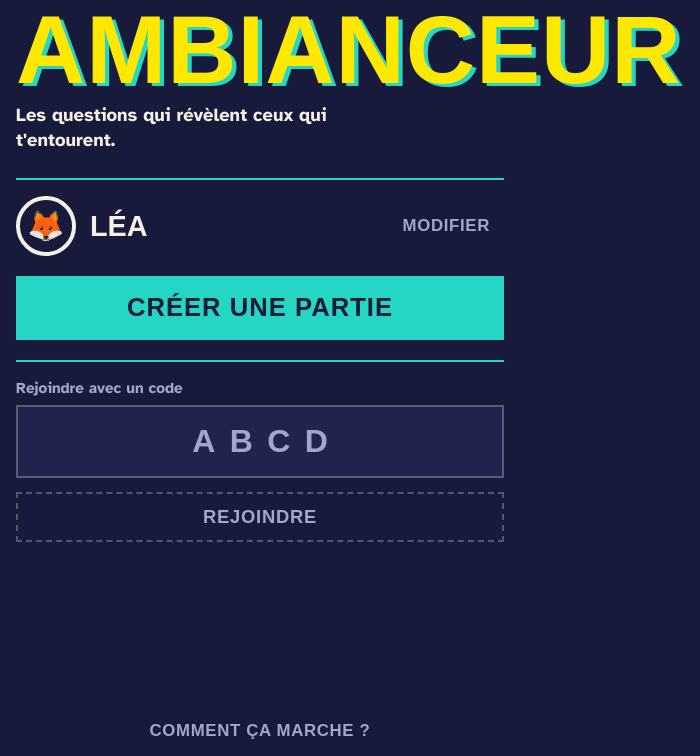
it: accueil et profil › met le code saisi en majuscules et n'accepte que 4 lettres
Type "ab1cde" into the field named "Code de la partie" at point(260, 442), box [16,405,504,478]
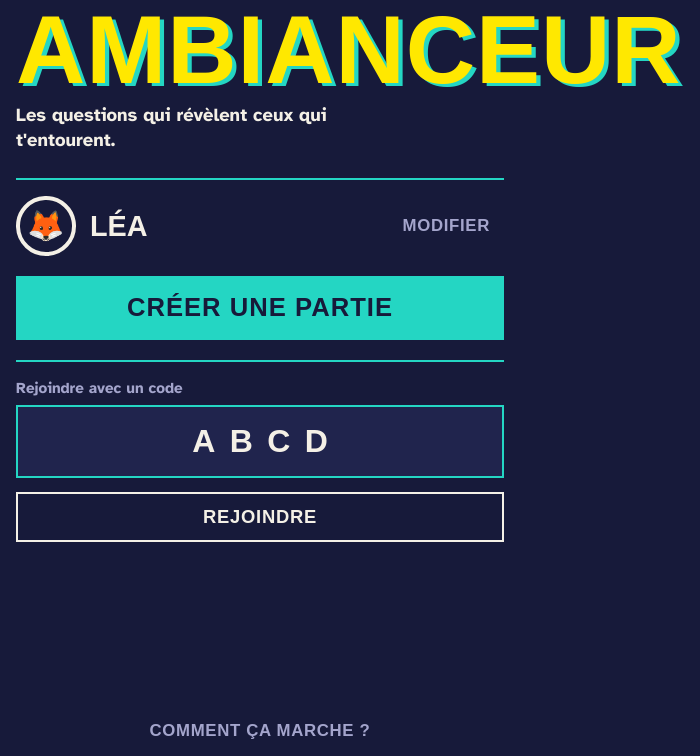
Result: the field named "Code de la partie" holds "ABCD" at [16,405,504,478]
